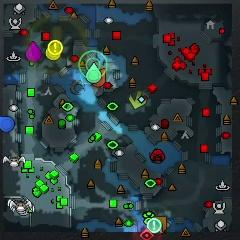Other: (47, 40, 63, 56)
p1: (0, 115, 15, 132)
p2: (86, 62, 101, 83)
p3: (26, 40, 43, 62)
p4: (45, 49, 60, 61)
p5: (92, 68, 107, 88)
x2: (129, 90, 147, 109)
x5: (153, 215, 167, 232)
